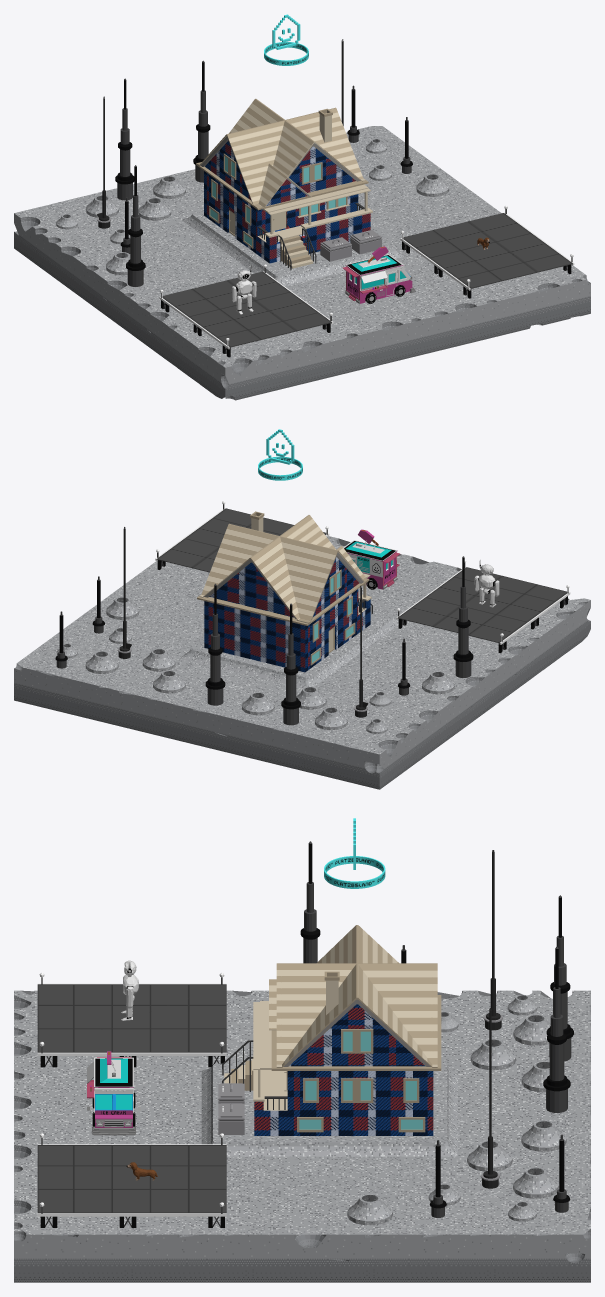
3 renders of one model, top to bottom at view 1: azimuth 30°, elevation 25°; view 2: azimuth 150°, elevation 25°; view 3: azimuth 270°, elevation 25°, orthographic. The views are drawn at different scales.
Visible parts, largest first — view 1: Cube.027, Cube.171, Cube.026, Cube.025, Cube.028, VEHICLES_ICE_CREAM_TRUCK, Cylinder.021, Cylinder.020, Cylinder.017, TYPE_PREMIUM, OBJRANDOM_PLATZEEBOT, Cube.029 (+4 smaller); view 2: Cube.027, Cube.171, Cube.025, Cube.028, Cube.026, VEHICLES_ICE_CREAM_TRUCK, Cylinder.017, Cylinder.021, Cylinder.020, TYPE_PREMIUM, OBJRANDOM_PLATZEEBOT, Cylinder.030 (+8 smaller); view 3: Cube.027, Cube.171, Cube.026, Cube.025, Cube.028, VEHICLES_ICE_CREAM_TRUCK, Cylinder.017, Cylinder.020, Cylinder.021, TYPE_PREMIUM, Cylinder.033, Cylinder.031 (+11 smaller).
Part boxes in pixels (<box>): Cube.027: <box>14,126,590,400</box>; Cube.171: <box>196,98,372,269</box>; Cube.026: <box>400,205,574,298</box>; Cube.025: <box>159,264,333,357</box>; Cube.028: <box>182,211,403,286</box>; VEHICLES_ICE_CREAM_TRUCK: <box>342,246,415,303</box>; Cylinder.021: <box>126,165,145,286</box>; Cylinder.020: <box>115,78,134,200</box>; Cylinder.017: <box>193,60,210,182</box>; TYPE_PREMIUM: <box>264,14,308,65</box>; OBJRANDOM_PLATZEEBOT: <box>231,265,256,314</box>; Cube.029: <box>320,237,351,261</box>; Cube.027: <box>14,536,590,789</box>; Cube.171: <box>197,511,372,672</box>; Cube.025: <box>396,560,570,653</box>; Cube.028: <box>181,610,398,688</box>; Cube.026: <box>155,501,329,572</box>; VEHICLES_ICE_CREAM_TRUCK: <box>343,529,399,589</box>; Cylinder.017: <box>205,583,225,705</box>; Cylinder.021: <box>453,556,473,677</box>; Cylinder.020: <box>281,603,300,725</box>; TYPE_PREMIUM: <box>258,429,302,480</box>; OBJRANDOM_PLATZEEBOT: <box>474,559,499,607</box>; Cylinder.030: <box>142,648,175,671</box>; Cube.027: <box>14,990,590,1282</box>; Cube.171: <box>222,925,441,1135</box>; Cube.026: <box>37,1133,226,1227</box>; Cube.025: <box>37,973,226,1067</box>; Cube.028: <box>201,1063,457,1156</box>; VEHICLES_ICE_CREAM_TRUCK: <box>87,1051,140,1135</box>; Cylinder.017: <box>543,946,570,1112</box>; Cylinder.020: <box>546,895,573,1061</box>; Cylinder.021: <box>300,841,320,963</box>; TYPE_PREMIUM: <box>324,818,385,888</box>; Cylinder.033: <box>347,1194,392,1225</box>; Cylinder.031: <box>513,1167,558,1198</box>.
Bounding box in the file's own units: 4000 × 2726 × 4000.
42 materials, 7 textured.
